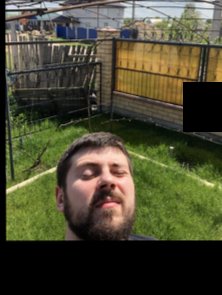without_mask: (70, 154, 135, 241)
